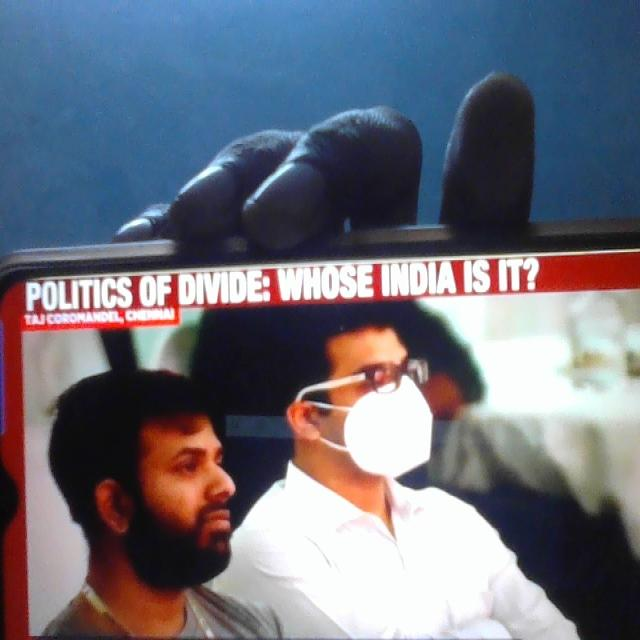fake: (121, 350, 239, 574)
